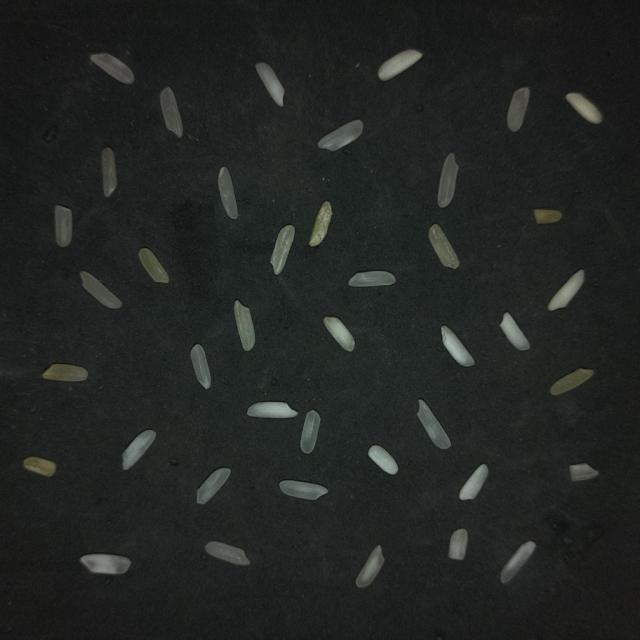broken: (317, 119, 362, 150), (121, 429, 155, 469), (428, 223, 458, 268), (196, 466, 229, 503), (355, 544, 383, 587), (205, 540, 249, 564), (233, 300, 254, 350), (506, 86, 529, 131), (80, 553, 130, 573), (279, 480, 327, 499), (190, 343, 210, 388), (300, 409, 319, 453), (348, 270, 395, 285), (54, 205, 71, 245), (448, 528, 467, 559), (568, 463, 597, 480), (533, 208, 561, 223)
chalky: (547, 269, 583, 309), (377, 48, 422, 79), (441, 325, 474, 365), (565, 91, 601, 123), (500, 311, 529, 349), (323, 316, 354, 350), (458, 463, 487, 499), (368, 444, 397, 474), (246, 401, 297, 417)
discolored: (550, 367, 593, 394), (138, 247, 168, 282), (308, 200, 331, 245), (41, 363, 87, 380), (23, 456, 55, 475)
red: (255, 61, 284, 105)
whole: (416, 398, 450, 448), (80, 270, 121, 307), (500, 540, 535, 582), (90, 52, 133, 83), (270, 225, 294, 274), (160, 86, 182, 137), (437, 152, 457, 207), (217, 166, 237, 218), (101, 146, 116, 196)
